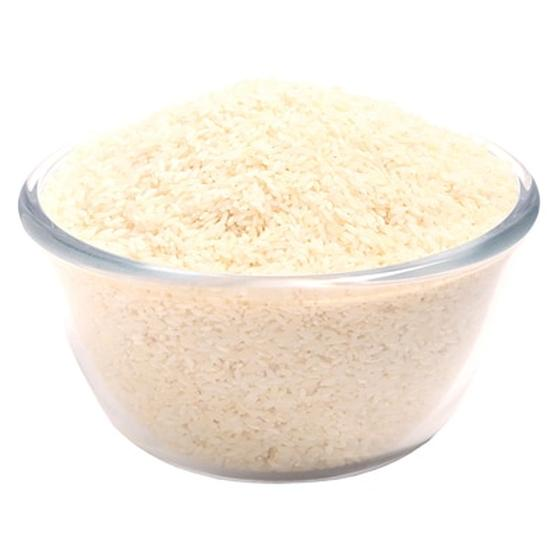rice: (111, 96, 448, 237)
